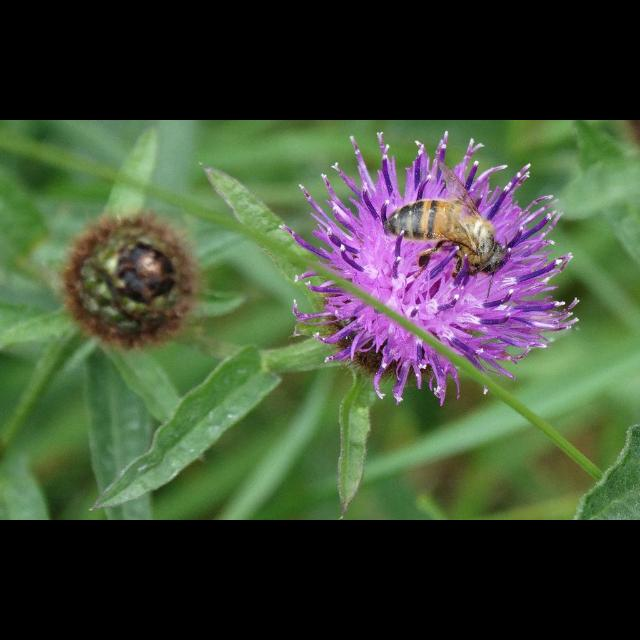Flower: (265, 144, 589, 416)
